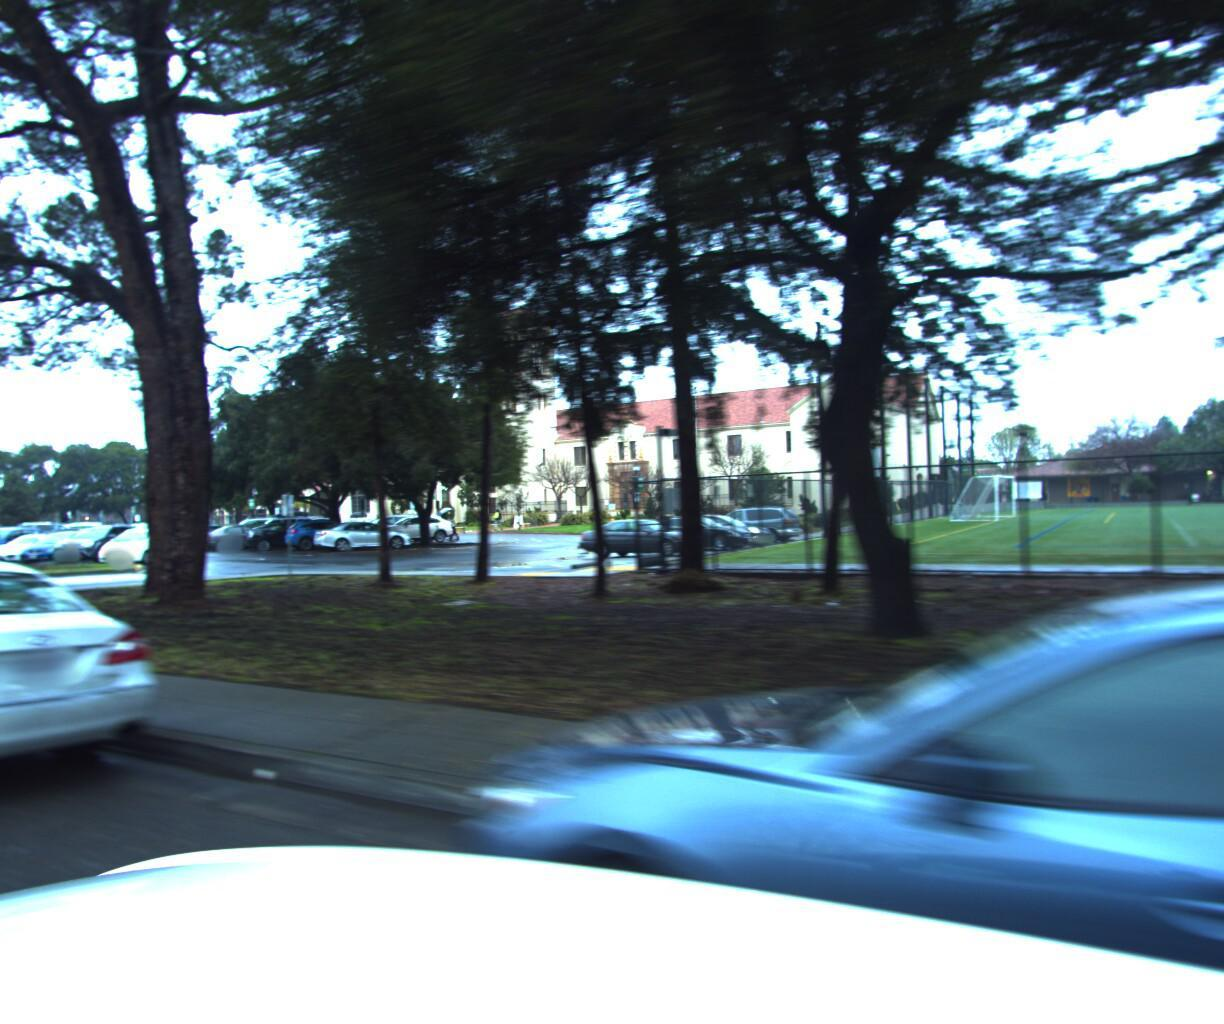car: (318, 525, 1224, 1024), (0, 537, 190, 885)
